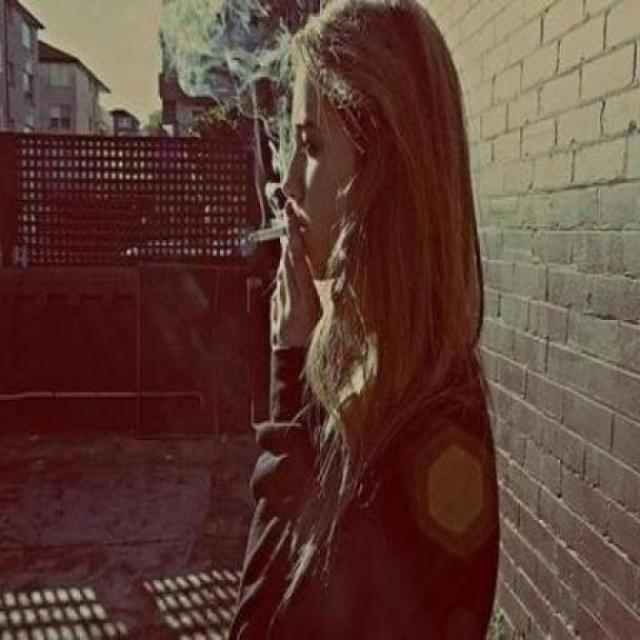rokok: (241, 212, 311, 248)
